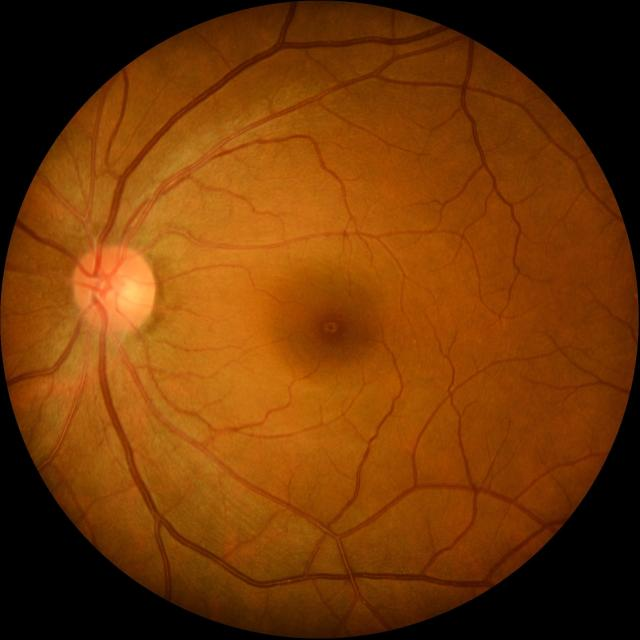OC: (99, 271, 134, 311)
OD: (71, 244, 153, 334)
